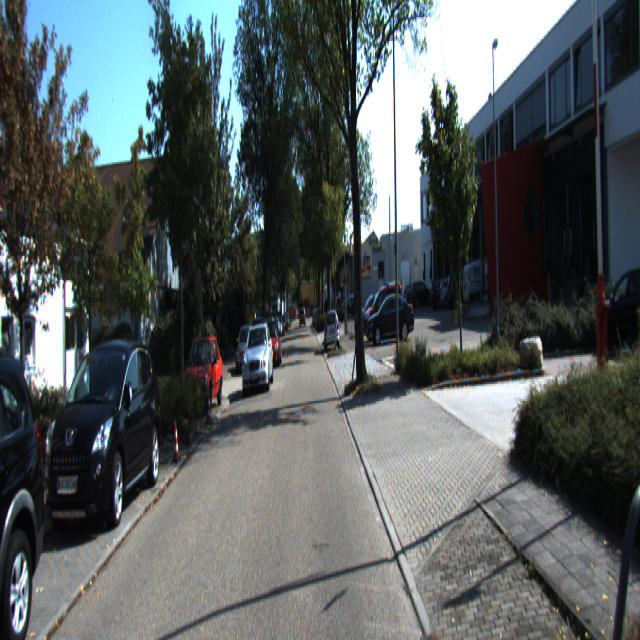Car: (42, 338, 164, 549), (0, 340, 57, 638), (178, 333, 224, 423), (462, 256, 509, 312), (364, 278, 406, 340), (366, 291, 416, 342), (240, 323, 274, 397), (324, 308, 340, 354)
